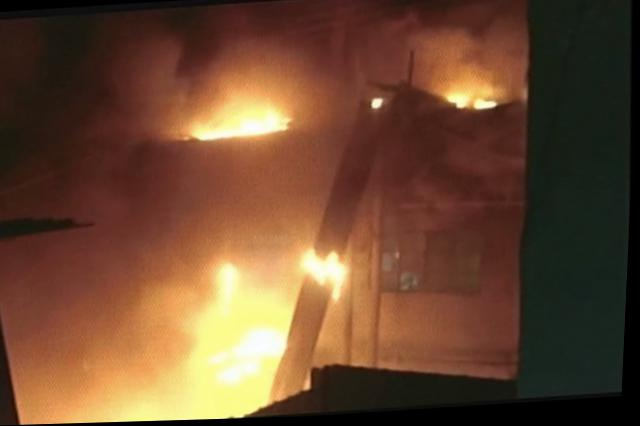fire: (182, 252, 288, 395), (185, 108, 298, 140), (299, 250, 352, 305), (441, 89, 492, 113)
smoke: (0, 0, 525, 91), (0, 203, 181, 394), (0, 80, 185, 208), (184, 138, 307, 249), (295, 70, 375, 237)
